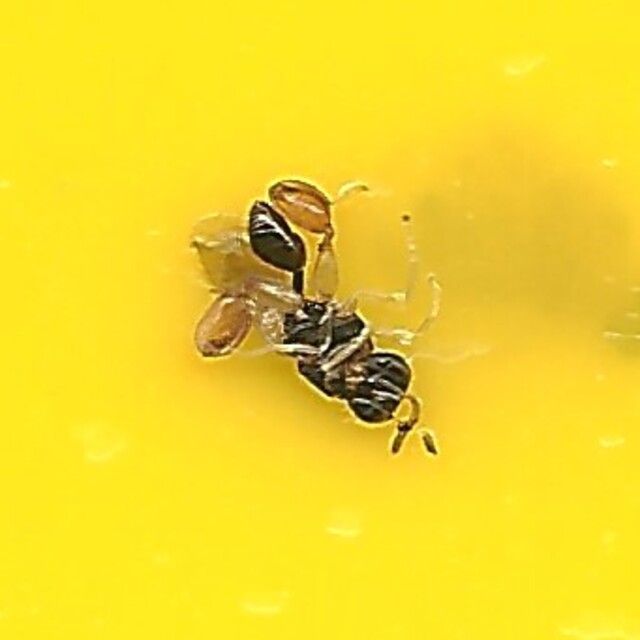Hymenoptera: (188, 180, 452, 460)
